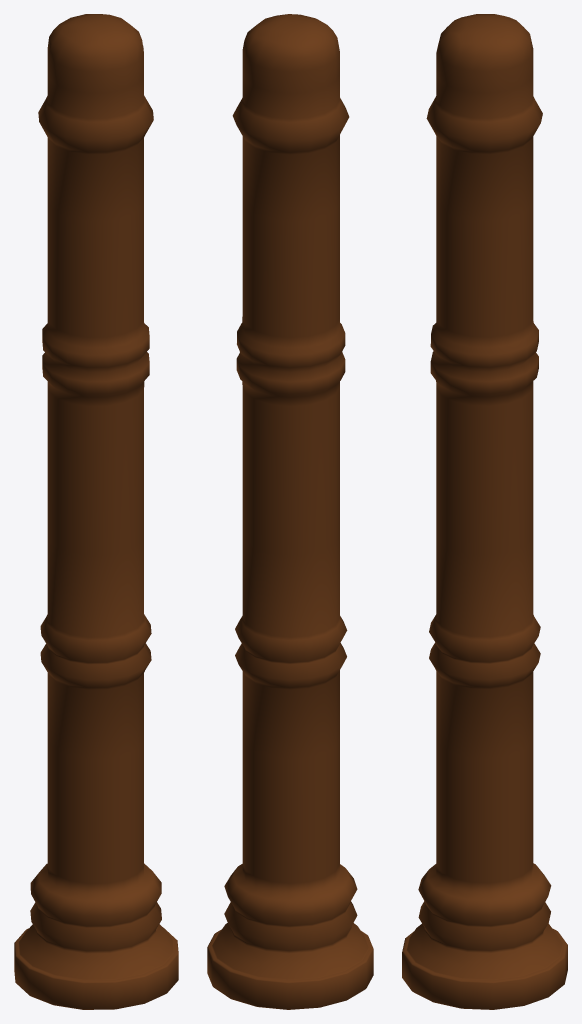
The model's file is Pillar Japan.fbx.
3 views of the same model, side by side, from view 1: azimuth 30°, elevation 25°; view 2: azimuth 150°, elevation 25°; view 3: azimuth 270°, elevation 25° (orthographic).
Parts seen in each view (by area): view 1: street-bollard-011; view 2: street-bollard-011; view 3: street-bollard-011.
Part boxes in pixels (x1=…): street-bollard-011: x1=14, y1=14, x2=178, y2=1009; street-bollard-011: x1=207, y1=14, x2=373, y2=1009; street-bollard-011: x1=402, y1=14, x2=567, y2=1009.
Bounding box in the file's own units: 7.95 × 50.49 × 7.95.
